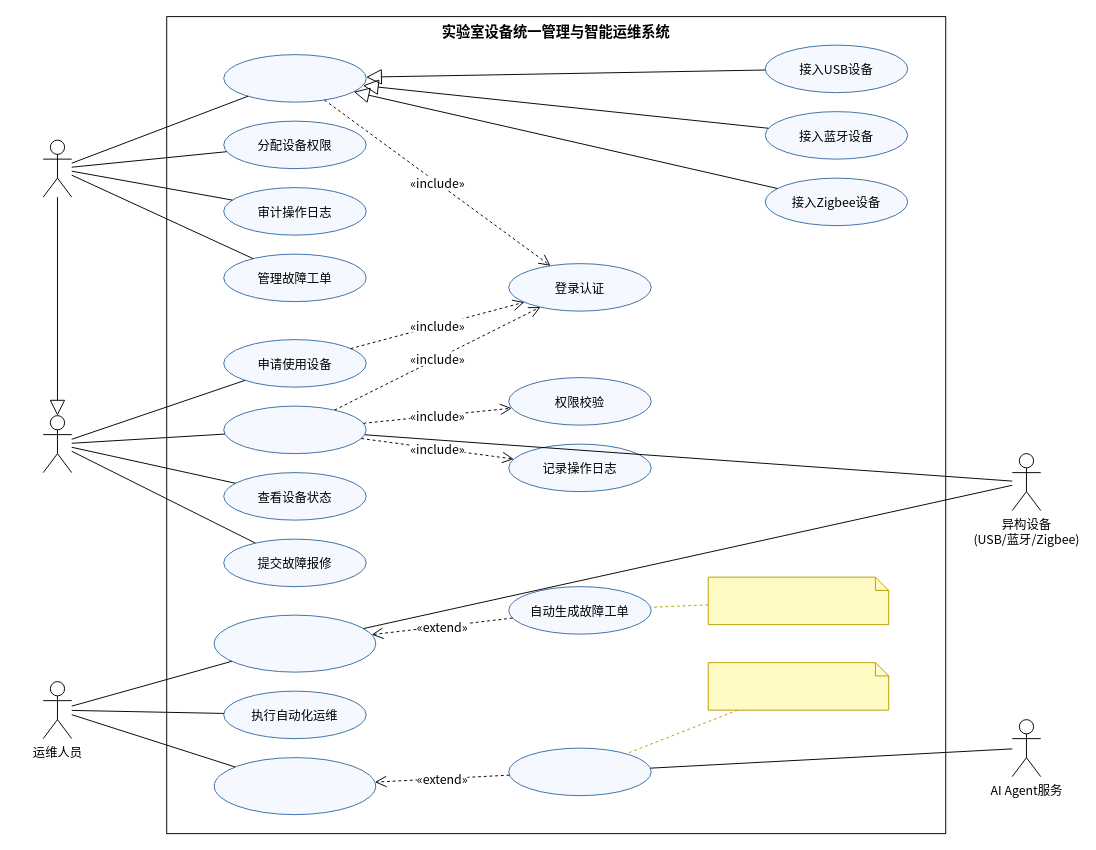
The diagram is 1096 pixels wide and 850 high, and some of its shapes have lost their labels. The centre of each missing label's shape, as x and y in pixels:
AI智能故障分析: the point at 579,771
处理故障工单 扩展点: 需要辅助诊断: the point at 294,786
实验人员(学生): the point at 57,444
实验室管理员: the point at 57,168
扩展点: 检测到异常 条件: 监测到设备状态异常: the point at 798,600
扩展点: 需要辅助诊断 条件: 运维人员请求AI辅助: the point at 798,686
接入设备: the point at 294,78
操作设备: the point at 294,429
监测设备状态 扩展点: 检测到异常: the point at 294,643
